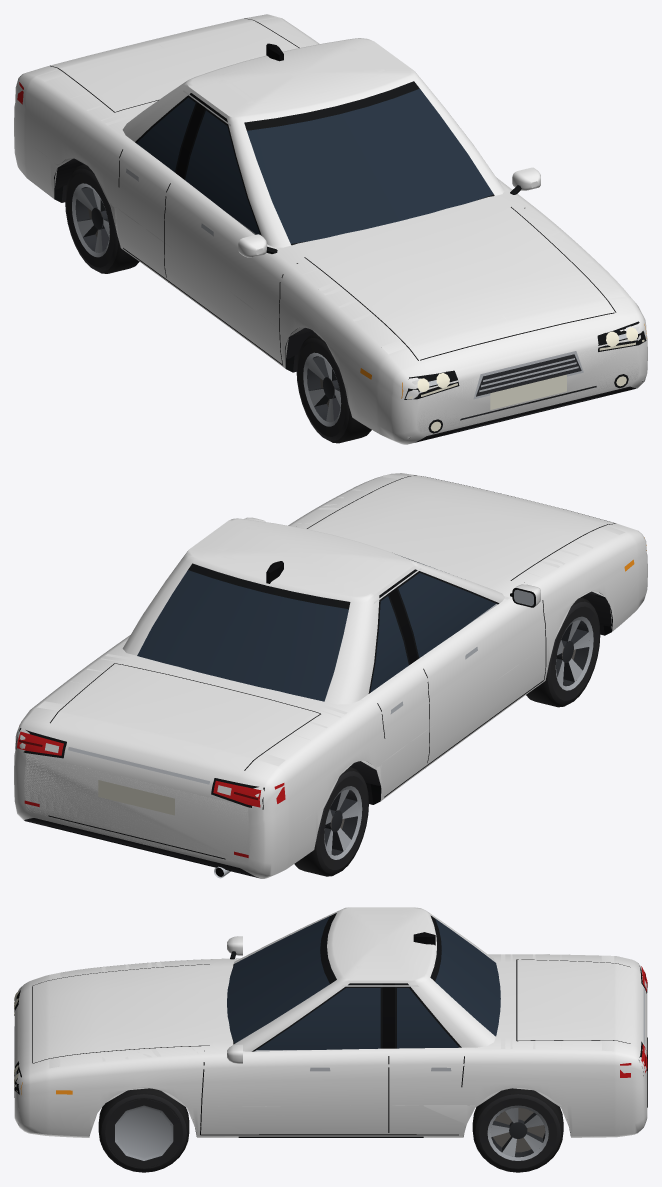
The model's file is sedan.glb.
The picture shows the model from 3 angles, top to bottom: view 1: azimuth 30°, elevation 25°; view 2: azimuth 150°, elevation 25°; view 3: azimuth 270°, elevation 25°; orthographic projection. The views are drawn at different scales.
Parts seen in each view (by area): view 1: Body, BodyLod, Wheel_FR, Wheel_RR; view 2: Body, BodyLod, Wheel_RR, Wheel_FR; view 3: Body, Wheel_RL, WheelLod_FL, BodyLod, Wheel_FL.
Boxes of the visible parts, left/top/right/bottom form: Body: left=14, top=14, right=647, bottom=444; BodyLod: left=37, top=17, right=646, bottom=438; Wheel_FR: left=296, top=333, right=371, bottom=443; Wheel_RR: left=65, top=164, right=139, bottom=273; Body: left=14, top=473, right=647, bottom=878; BodyLod: left=24, top=474, right=625, bottom=863; Wheel_RR: left=294, top=767, right=368, bottom=876; Wheel_FR: left=526, top=597, right=600, bottom=707; Body: left=14, top=907, right=647, bottom=1137; Wheel_RL: left=472, top=1088, right=563, bottom=1172; WheelLod_FL: left=101, top=1096, right=187, bottom=1168; BodyLod: left=14, top=914, right=647, bottom=1136; Wheel_FL: left=98, top=1088, right=189, bottom=1172.
Bounding box in the file's own units: 2.02 × 1.54 × 4.61.
Materials: 8 (6 with a texture image).
